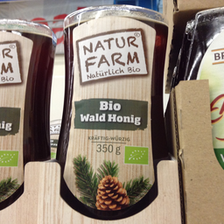honey: (60, 5, 168, 220)
